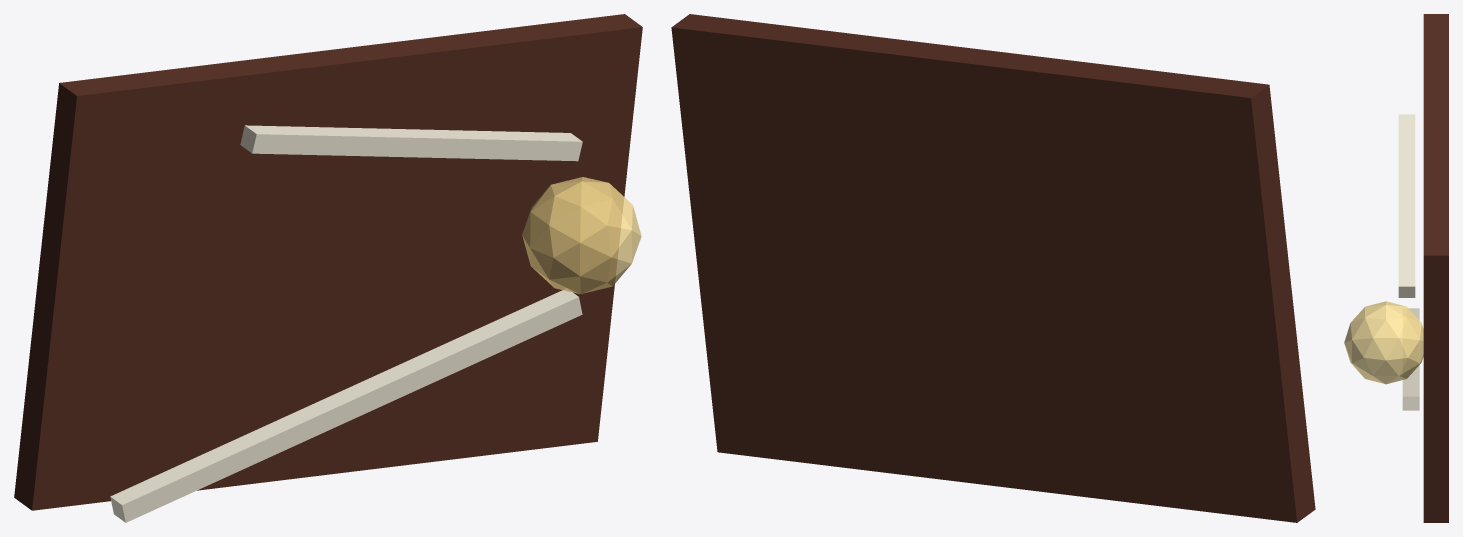
The model's file is 02_world_prop_polish.glb.
3 renders of one model, left to right at view 1: azimuth 30°, elevation 25°; view 2: azimuth 150°, elevation 25°; view 3: azimuth 270°, elevation 25°, orthographic. The views are drawn at different scales.
Visible parts, largest first — view 1: object_overlay_plate, edge_wear_a, glow_socket, edge_wear_b; view 2: object_overlay_plate; view 3: object_overlay_plate, glow_socket, edge_wear_b, edge_wear_a.
Part boxes in pixels (<box>): object_overlay_plate: <box>14,14,642,510</box>; edge_wear_a: <box>110,289,582,522</box>; glow_socket: <box>522,177,641,294</box>; edge_wear_b: <box>240,125,582,161</box>; object_overlay_plate: <box>671,14,1315,522</box>; object_overlay_plate: <box>1423,14,1448,522</box>; glow_socket: <box>1344,301,1423,384</box>; edge_wear_b: <box>1398,114,1415,297</box>; edge_wear_a: <box>1402,308,1419,410</box>.
Bounding box in the file's own units: 1.18 × 0.8724 × 0.25.
